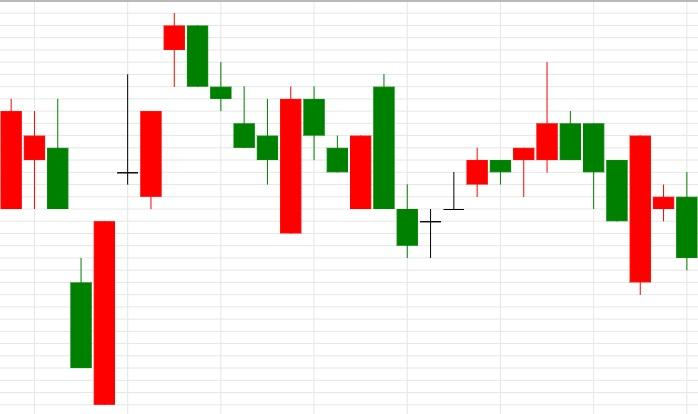bullish_engulfing_rise: (0, 98, 116, 405), (163, 13, 302, 234), (536, 62, 652, 295)
three_black_crows_fall: (93, 13, 256, 405)
